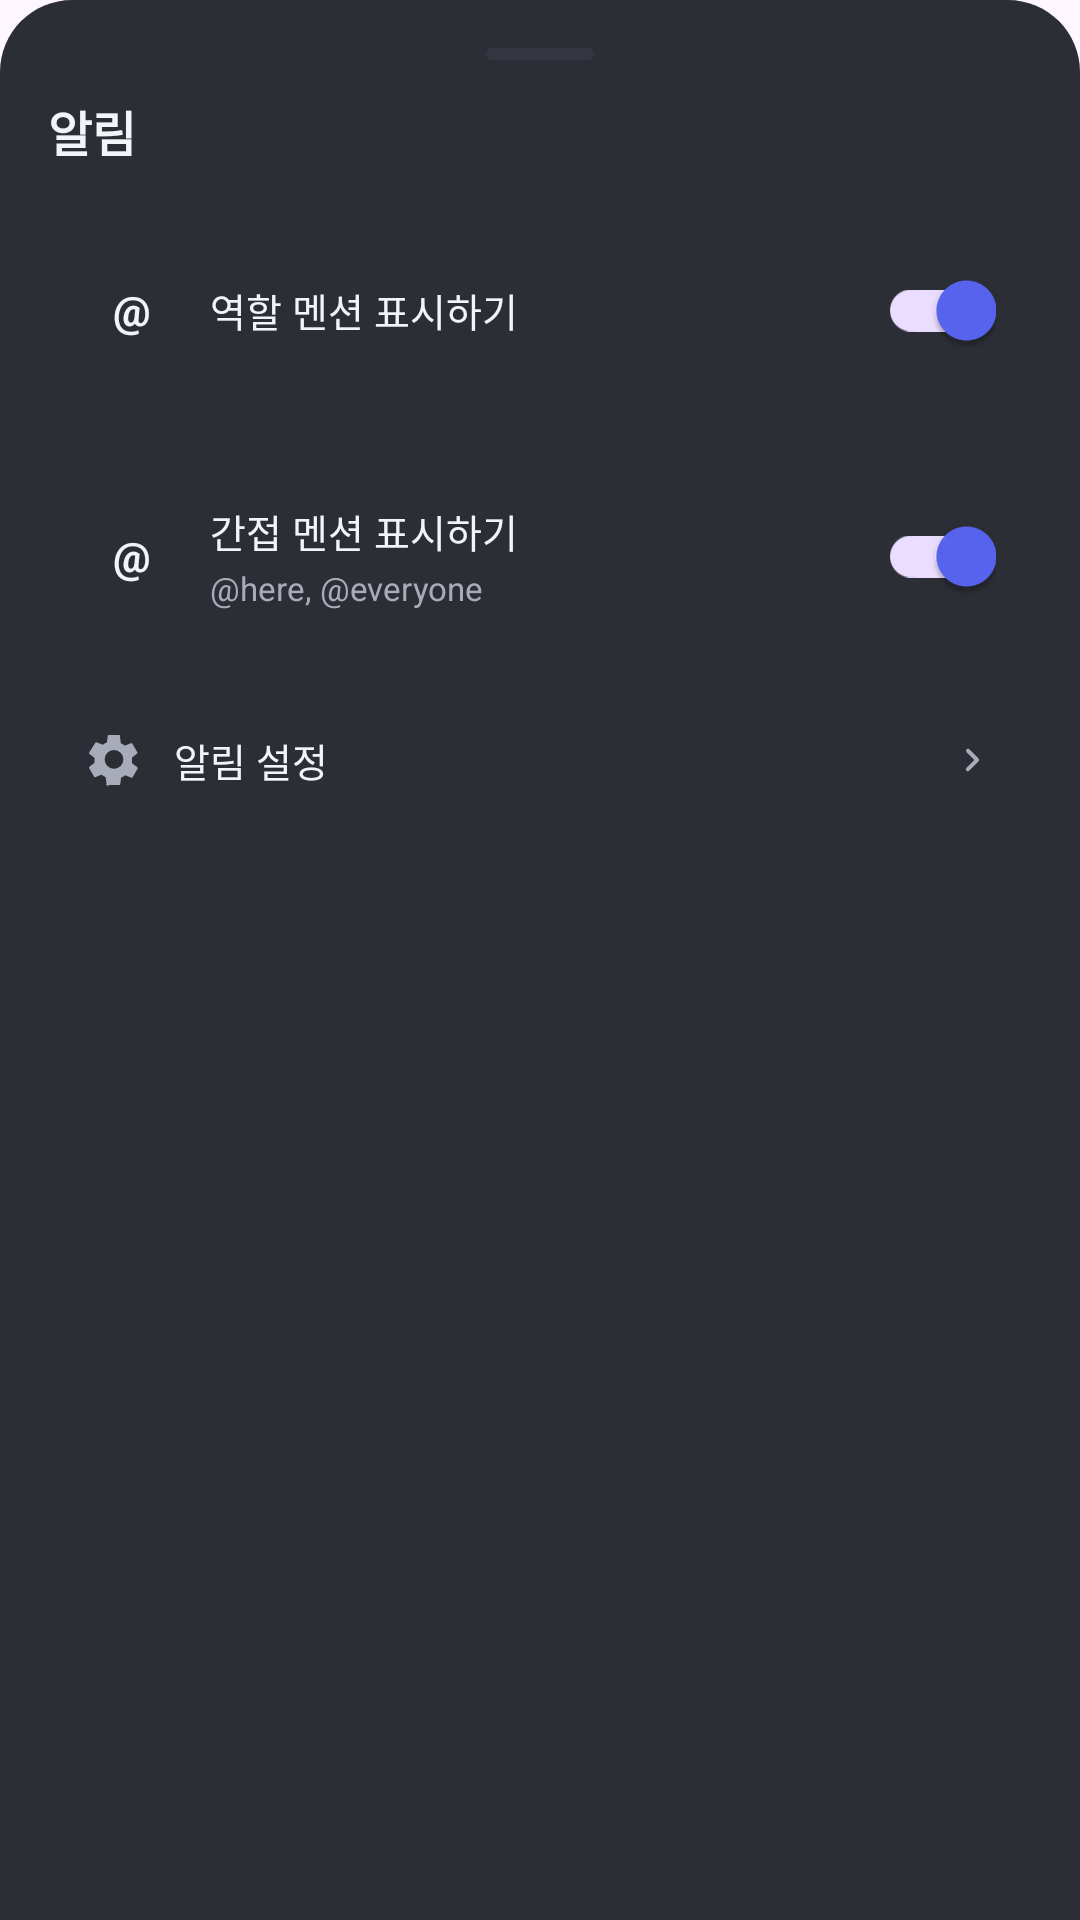

Where icons sit on this 1080x1920 app screen, as (x1, y1, x2, y2):
chevron right: (966, 748, 979, 772)
settings: (89, 735, 138, 786)
